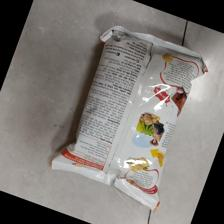Lays: (53, 23, 209, 213)
